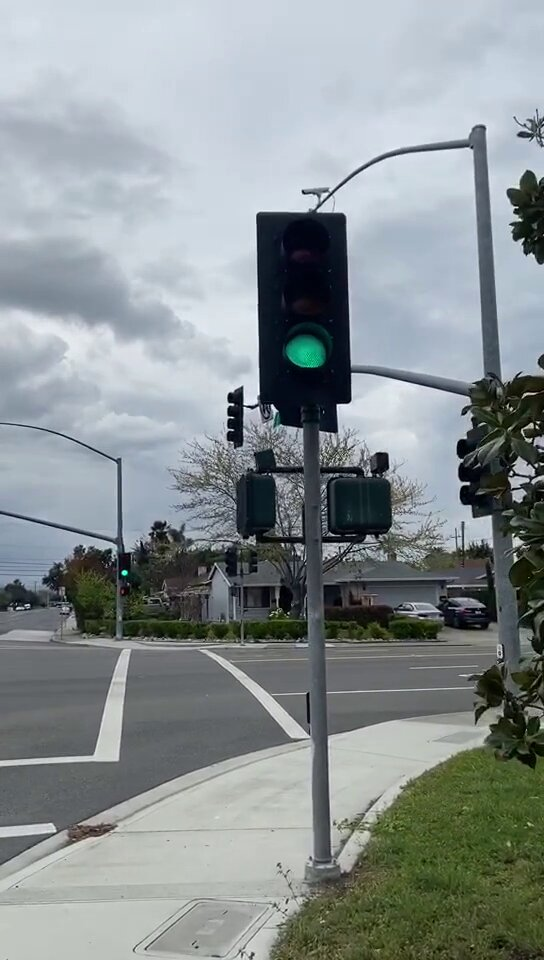green_light: (261, 212, 350, 402), (118, 553, 130, 577)
